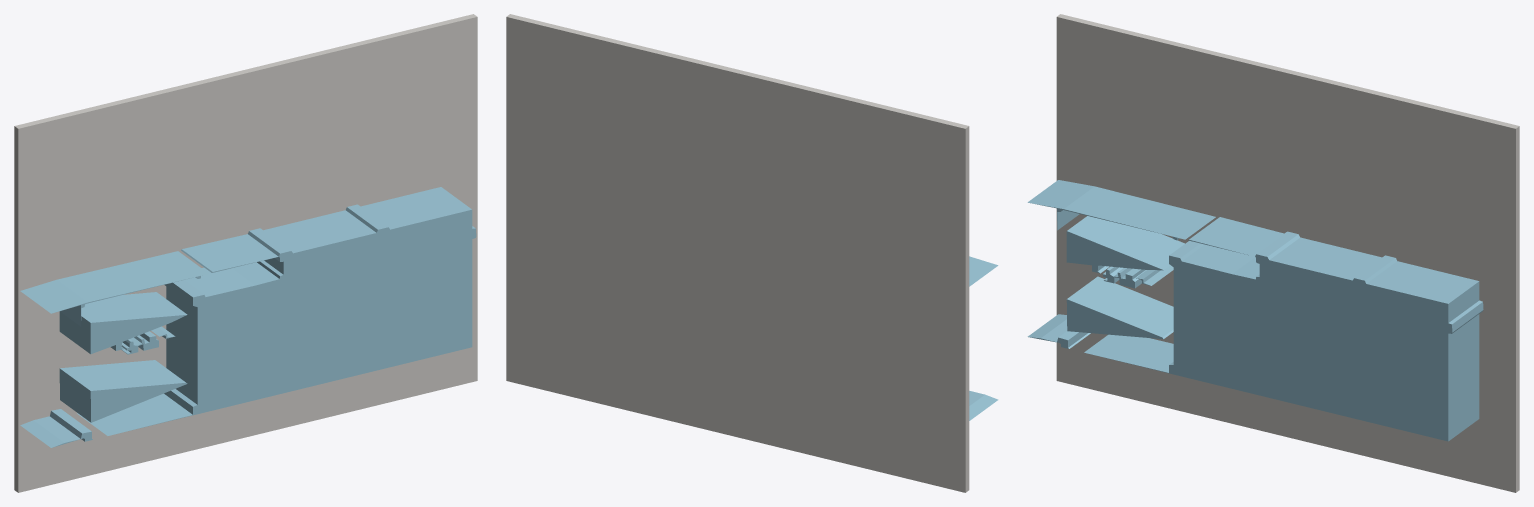
3 views of the same model, side by side, from view 1: azimuth 30°, elevation 25°; view 2: azimuth 150°, elevation 25°; view 3: azimuth 330°, elevation 25° (orthographic).
Parts seen in each view (by area): view 1: world; view 2: world; view 3: world.
Part boxes in pixels (left/top/right/bottom): world: left=14, top=14, right=477, bottom=492; world: left=506, top=14, right=998, bottom=492; world: left=1027, top=14, right=1519, bottom=492.
Size of the model in its own units: 10.23 by 7.75 by 1.35.
